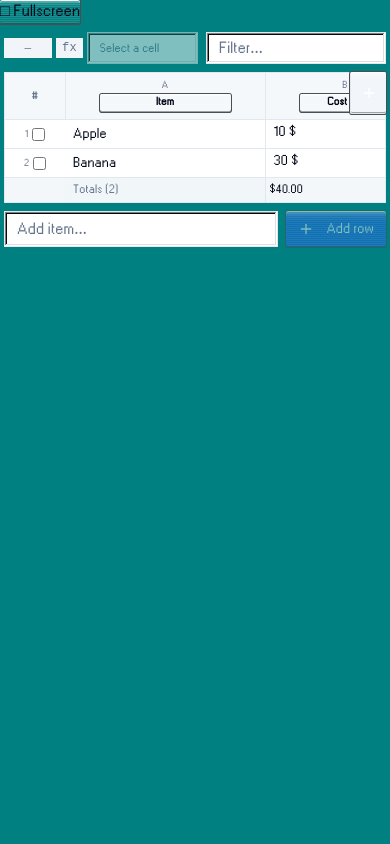
Scenario: spreadsheet in-app fullscreen › enters a near-viewport window and keeps a single formula bar
This screenshot has width=390, height=844.
Expected: the number of fields named "Formula bar" is 1, [87,32,198,64]
Click the button with aria-label "Fullscreen spreadsheet": point(40, 12) [0,0,80,24]
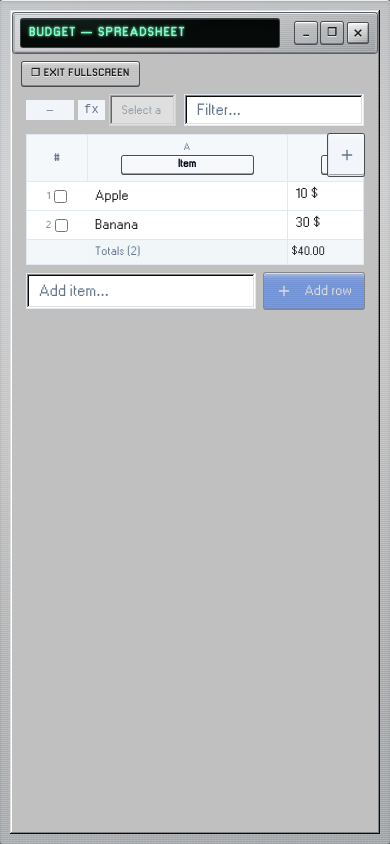
Result: the dialog "Budget — Spreadsheet" is shown
Result: the button "❐ Exit fullscreen" is shown at [22,62,138,86]
Result: the button named "Restore down" is shown at [321,22,343,44]
